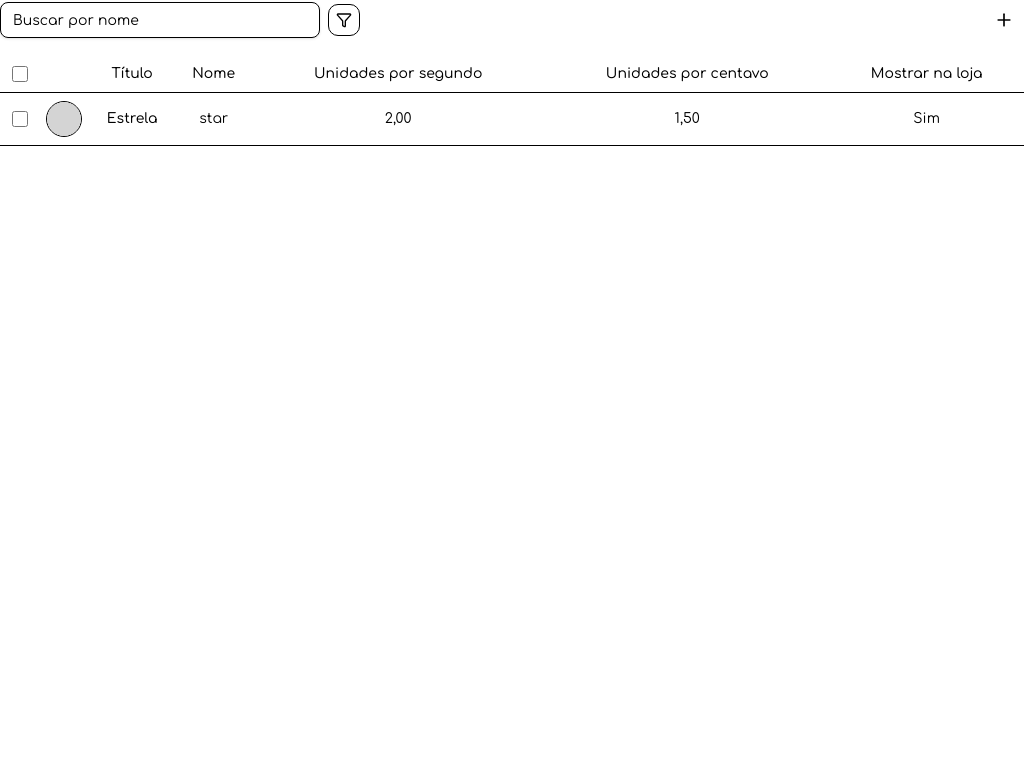
Test: CurrencyManager › shows only archived currencies when the toggle is on
This screenshot has width=1024, height=768.
Expected: the text "Estrela" is shown, left=107, top=111, right=158, bottom=126
Click the button named "Filtros": (344, 20) left=328, top=4, right=360, bottom=36
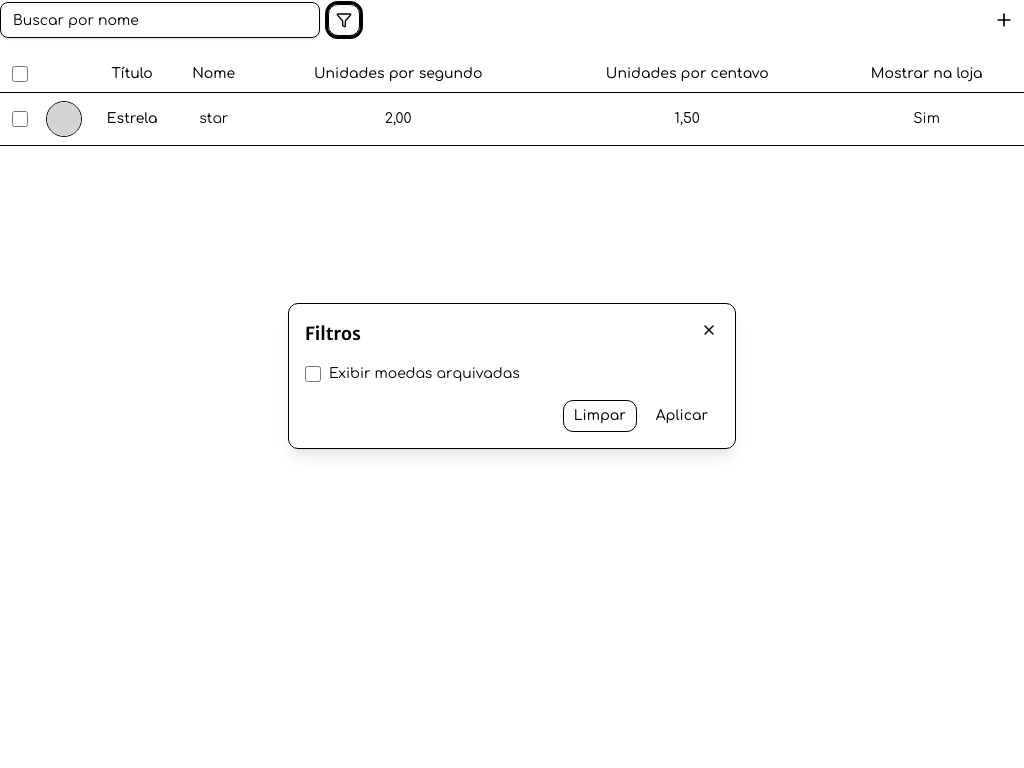
Click the checkbox labelled "Exibir moedas arquivadas": (313, 374) left=305, top=366, right=321, bottom=382
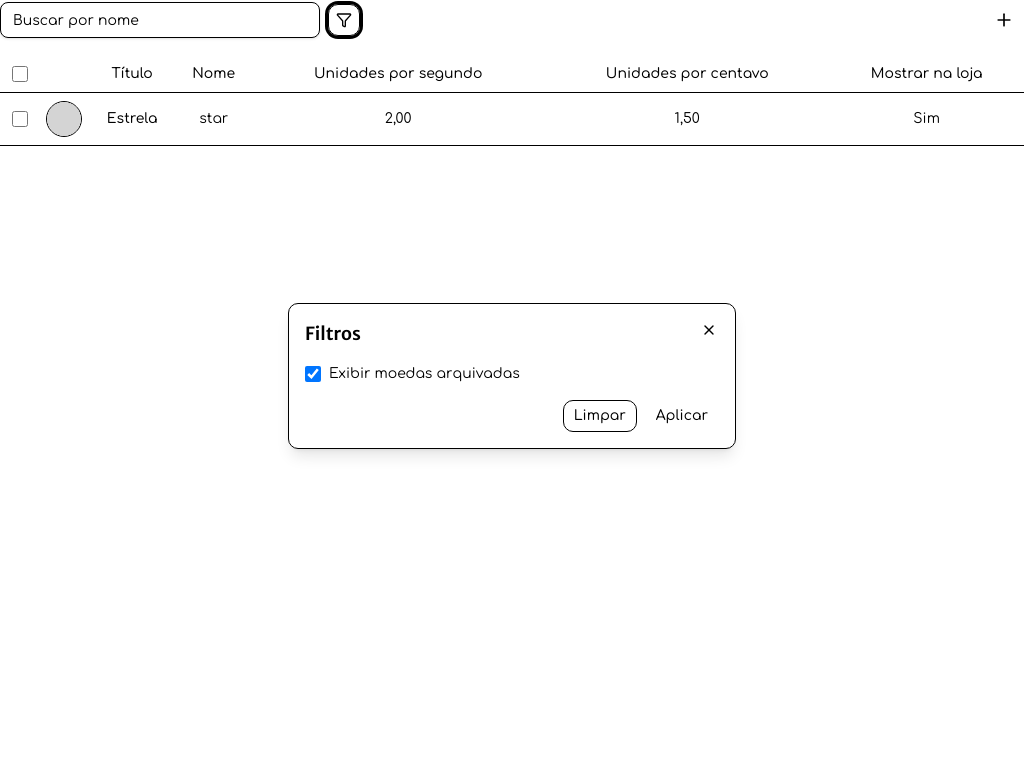
Click the button "Aplicar": (682, 416) left=645, top=400, right=719, bottom=432
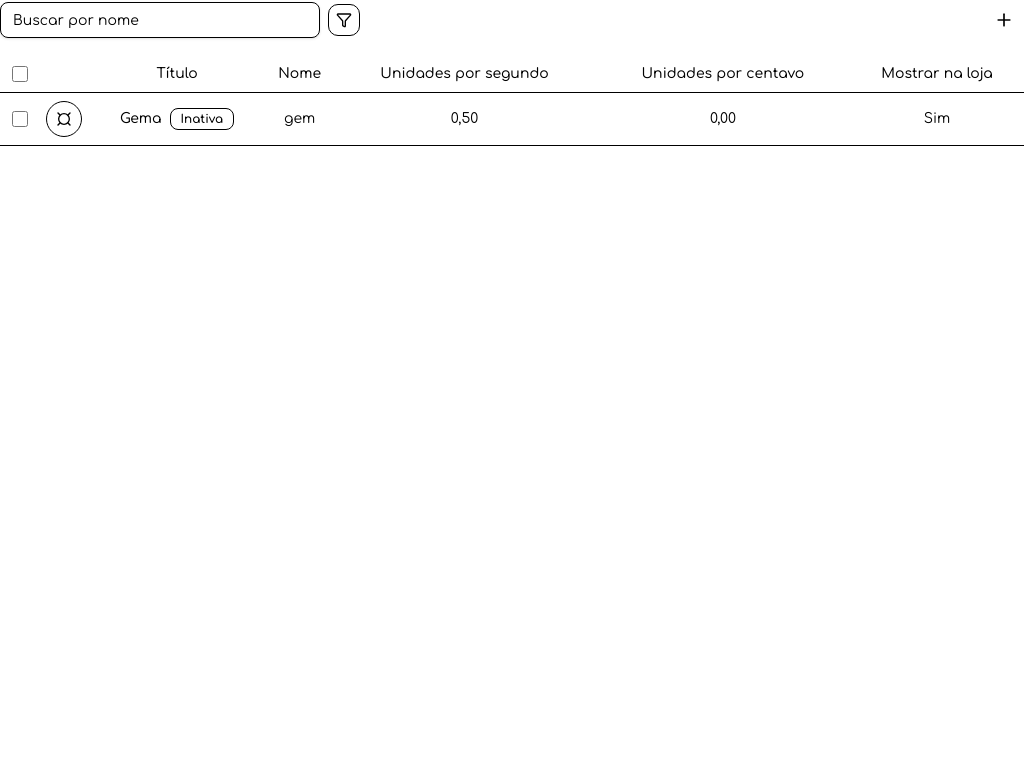
Expected: the button "Estrela" is gone
Expected: the text "Gema" is shown, left=120, top=111, right=162, bottom=126
